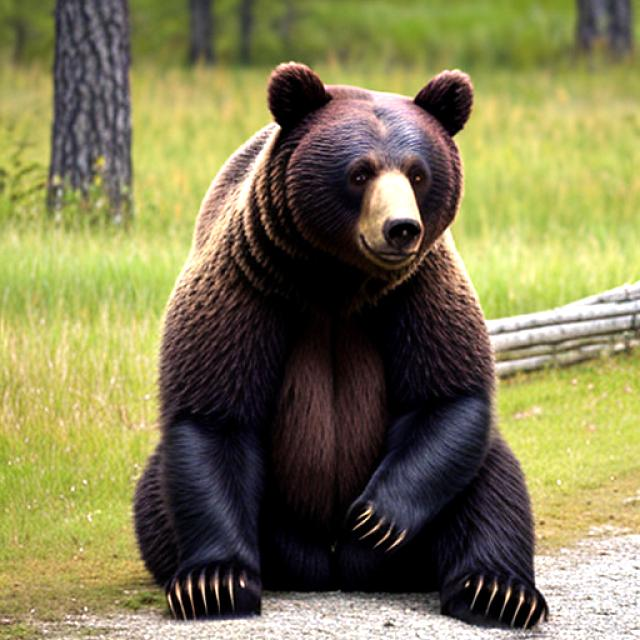bear: (240, 36, 498, 292)
